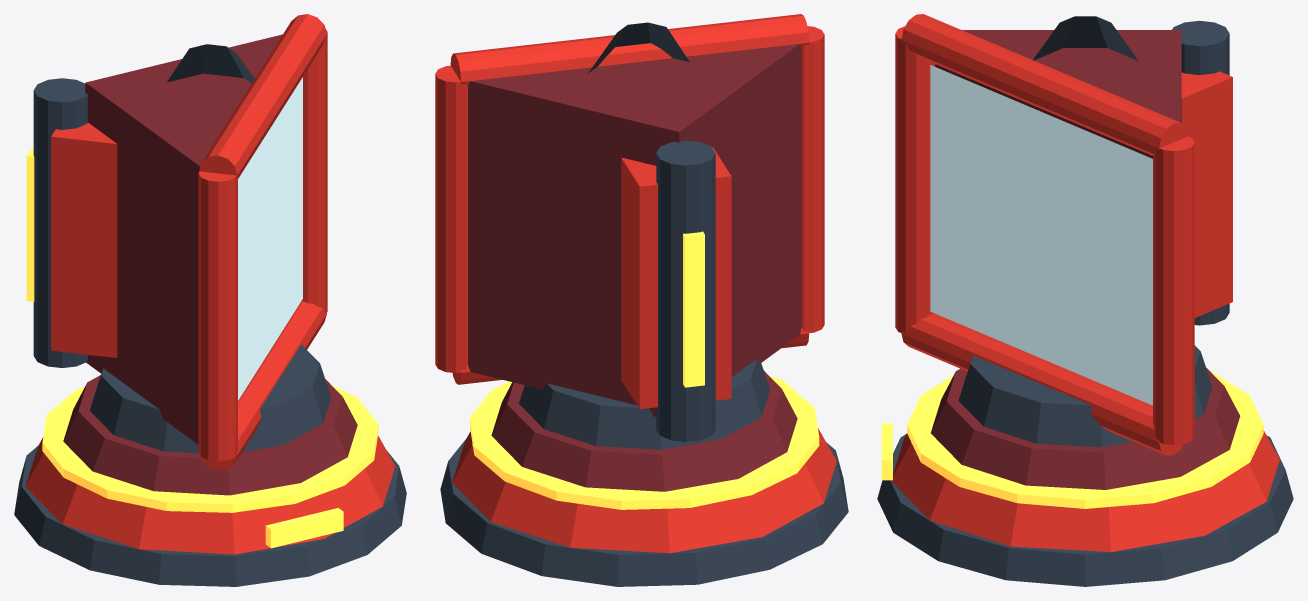
Rendered from single_mirror_red.glb.
3 views of the same model, side by side, from view 1: azimuth 30°, elevation 25°; view 2: azimuth 150°, elevation 25°; view 3: azimuth 270°, elevation 25° (orthographic). The views are drawn at different scales.
Parts seen in each view (by area): view 1: single_mirror_red_Triangular_Prism_Body, single_mirror_red_Optical_Frame, single_mirror_red_Rear_Armor, single_mirror_red_Base_Lower, single_mirror_red_Mirror_Face, single_mirror_red_Base_Armor, single_mirror_red_Base_Deck, single_mirror_red_Base_Light_Ring, single_mirror_red_Prism_Cradle, single_mirror_red_Rear_Spine, single_mirror_red_Top_Cap, single_mirror_red_Status_Light (+1 smaller); view 2: single_mirror_red_Triangular_Prism_Body, single_mirror_red_Optical_Frame, single_mirror_red_Base_Armor, single_mirror_red_Base_Lower, single_mirror_red_Base_Deck, single_mirror_red_Rear_Spine, single_mirror_red_Rear_Armor, single_mirror_red_Base_Light_Ring, single_mirror_red_Prism_Cradle, single_mirror_red_Rear_Energy_Slit, single_mirror_red_Top_Cap; view 3: single_mirror_red_Mirror_Face, single_mirror_red_Optical_Frame, single_mirror_red_Base_Armor, single_mirror_red_Base_Lower, single_mirror_red_Base_Deck, single_mirror_red_Base_Light_Ring, single_mirror_red_Rear_Armor, single_mirror_red_Triangular_Prism_Body, single_mirror_red_Prism_Cradle, single_mirror_red_Rear_Spine, single_mirror_red_Top_Cap, single_mirror_red_Status_Light.
Part boxes in pixels (box(x1,y1,x2,y2)): single_mirror_red_Triangular_Prism_Body: box(85, 34, 282, 444); single_mirror_red_Optical_Frame: box(198, 14, 327, 470); single_mirror_red_Rear_Armor: box(51, 122, 117, 357); single_mirror_red_Base_Lower: box(14, 446, 406, 586); single_mirror_red_Mirror_Face: box(238, 77, 302, 400); single_mirror_red_Base_Armor: box(25, 435, 395, 554); single_mirror_red_Base_Deck: box(63, 375, 357, 495); single_mirror_red_Base_Light_Ring: box(42, 385, 378, 512); single_mirror_red_Prism_Cradle: box(89, 344, 331, 453); single_mirror_red_Rear_Spine: box(33, 78, 87, 367); single_mirror_red_Top_Cap: box(167, 44, 255, 83); single_mirror_red_Status_Light: box(265, 508, 343, 548); single_mirror_red_Triangular_Prism_Body: box(458, 44, 801, 416); single_mirror_red_Optical_Frame: box(435, 14, 824, 384); single_mirror_red_Base_Armor: box(452, 428, 836, 553); single_mirror_red_Base_Lower: box(440, 439, 848, 586); single_mirror_red_Base_Deck: box(491, 371, 797, 491); single_mirror_red_Rear_Spine: box(656, 140, 715, 441); single_mirror_red_Rear_Armor: box(621, 147, 731, 408); single_mirror_red_Base_Light_Ring: box(470, 376, 819, 509); single_mirror_red_Prism_Cradle: box(519, 359, 769, 449); single_mirror_red_Rear_Energy_Slit: box(683, 231, 704, 387); single_mirror_red_Top_Cap: box(588, 22, 689, 73); single_mirror_red_Mirror_Face: box(930, 65, 1152, 405); single_mirror_red_Optical_Frame: box(895, 14, 1194, 455); single_mirror_red_Base_Armor: box(891, 430, 1279, 551); single_mirror_red_Base_Lower: box(877, 434, 1293, 586); single_mirror_red_Base_Deck: box(931, 367, 1240, 489); single_mirror_red_Base_Light_Ring: box(907, 371, 1263, 508); single_mirror_red_Rear_Armor: box(1181, 71, 1232, 317); single_mirror_red_Triangular_Prism_Body: box(935, 30, 1181, 158); single_mirror_red_Prism_Cradle: box(958, 345, 1212, 447); single_mirror_red_Rear_Spine: box(1172, 20, 1229, 325); single_mirror_red_Top_Cap: box(1033, 16, 1138, 60); single_mirror_red_Status_Light: box(881, 423, 892, 480).
Size of the model in its own units: 1.04 by 1.3 by 1.04.
